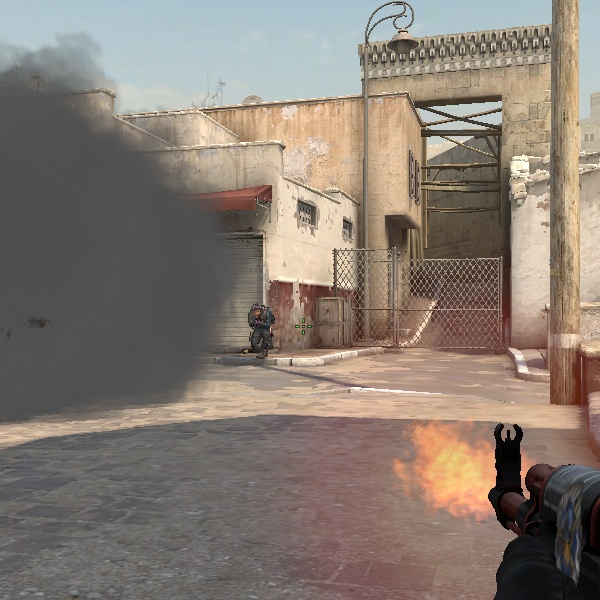ct_head: (250, 303, 266, 319)
t_body: (242, 298, 278, 356)
